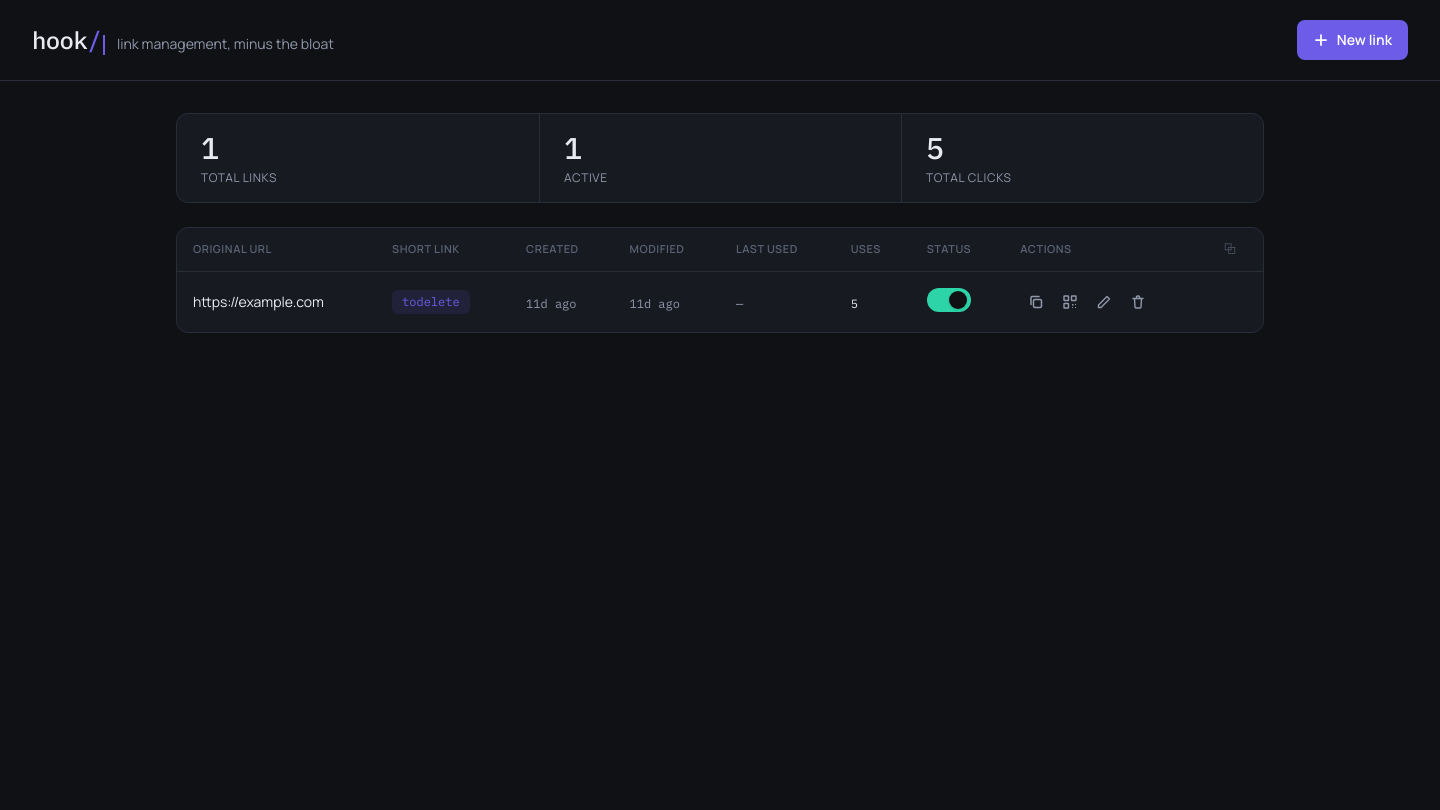
Test case: Dashboard — delete › removes the link from the list after deletion
This screenshot has width=1440, height=810.
Check: the text "todelete" is shown, box [392, 290, 470, 314]
# Click first delete button, then confirm
Click the button named "delete link".
click(1138, 302)  # box [1122, 286, 1154, 318]
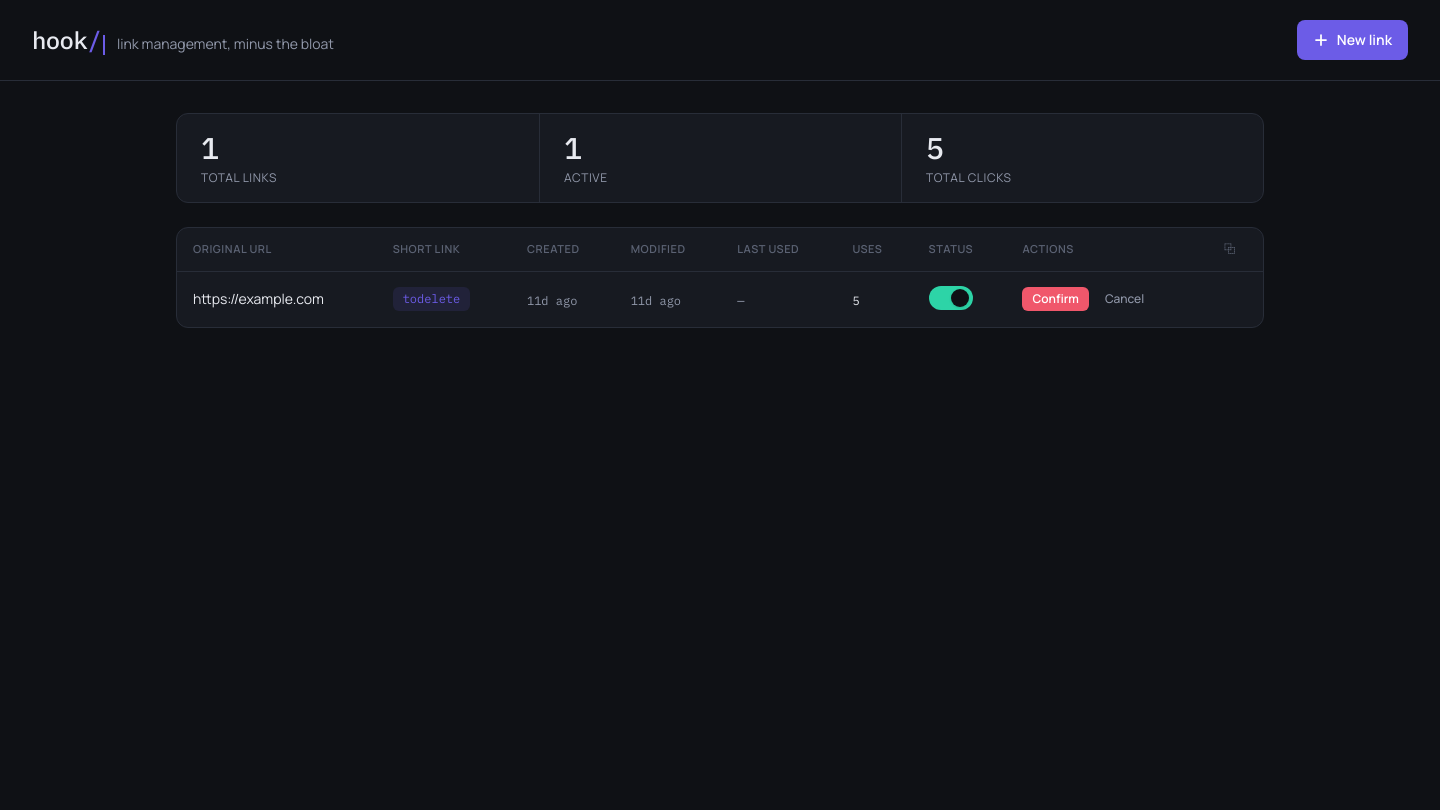
Click the button "Confirm".
click(1056, 299)  # box [1022, 287, 1089, 311]
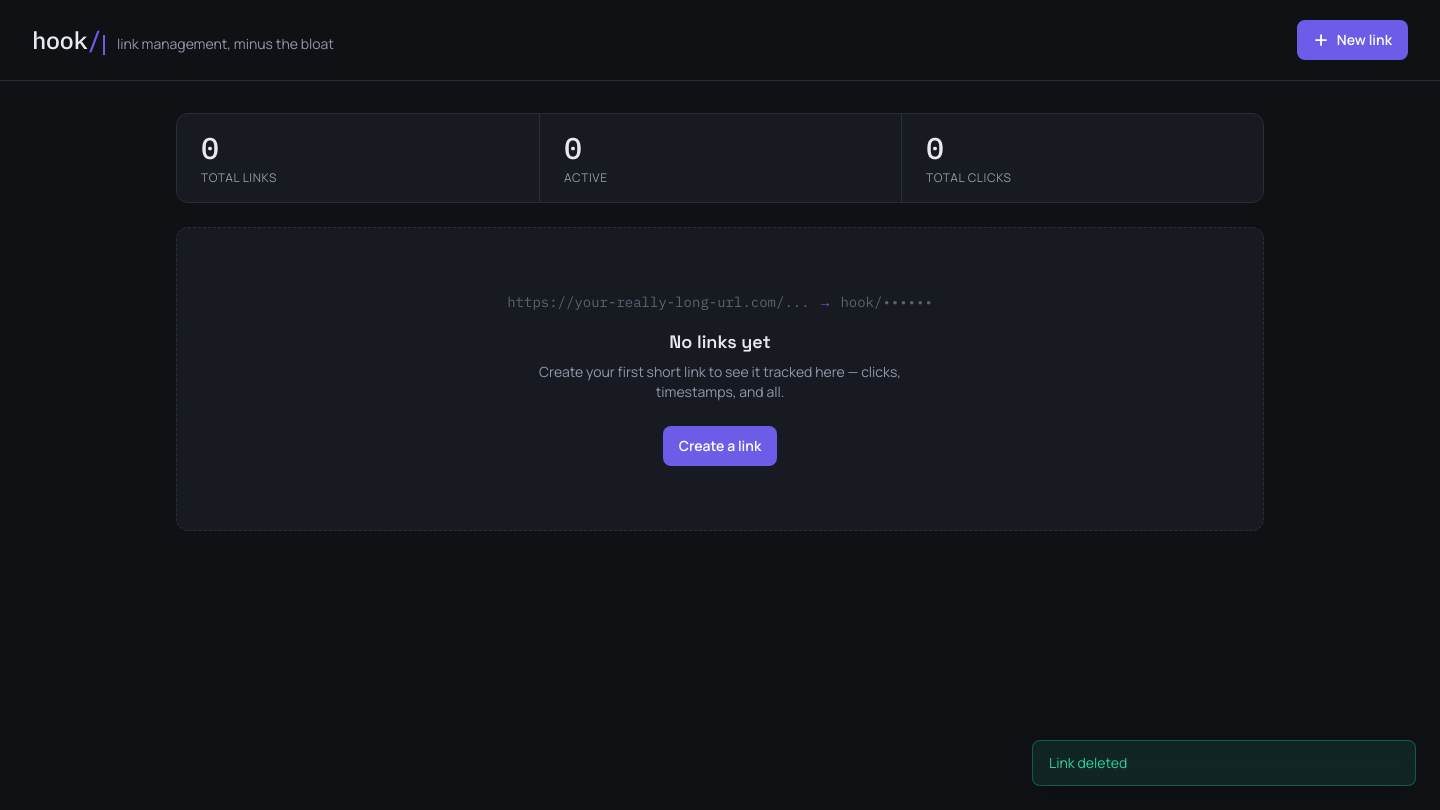
Check: the text "todelete" is not shown
